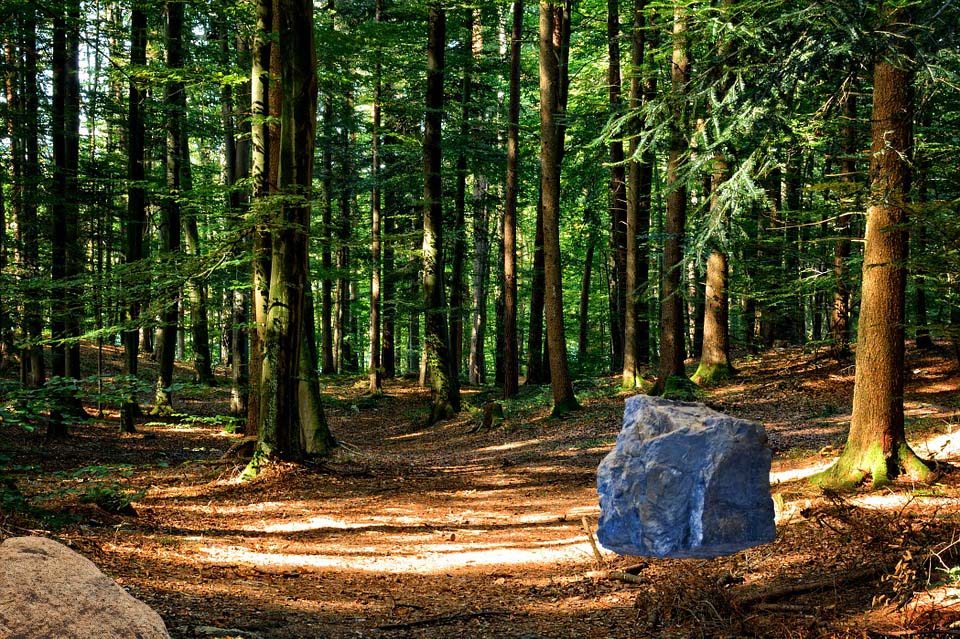Rocks: (596, 394, 777, 564)
